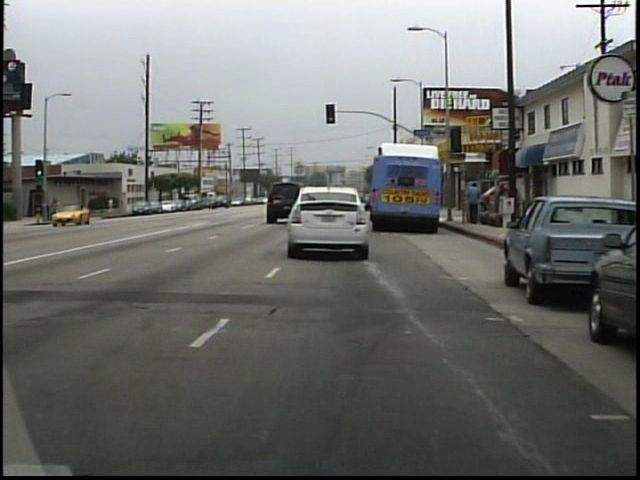person: (462, 181, 482, 228), (106, 193, 118, 217)
